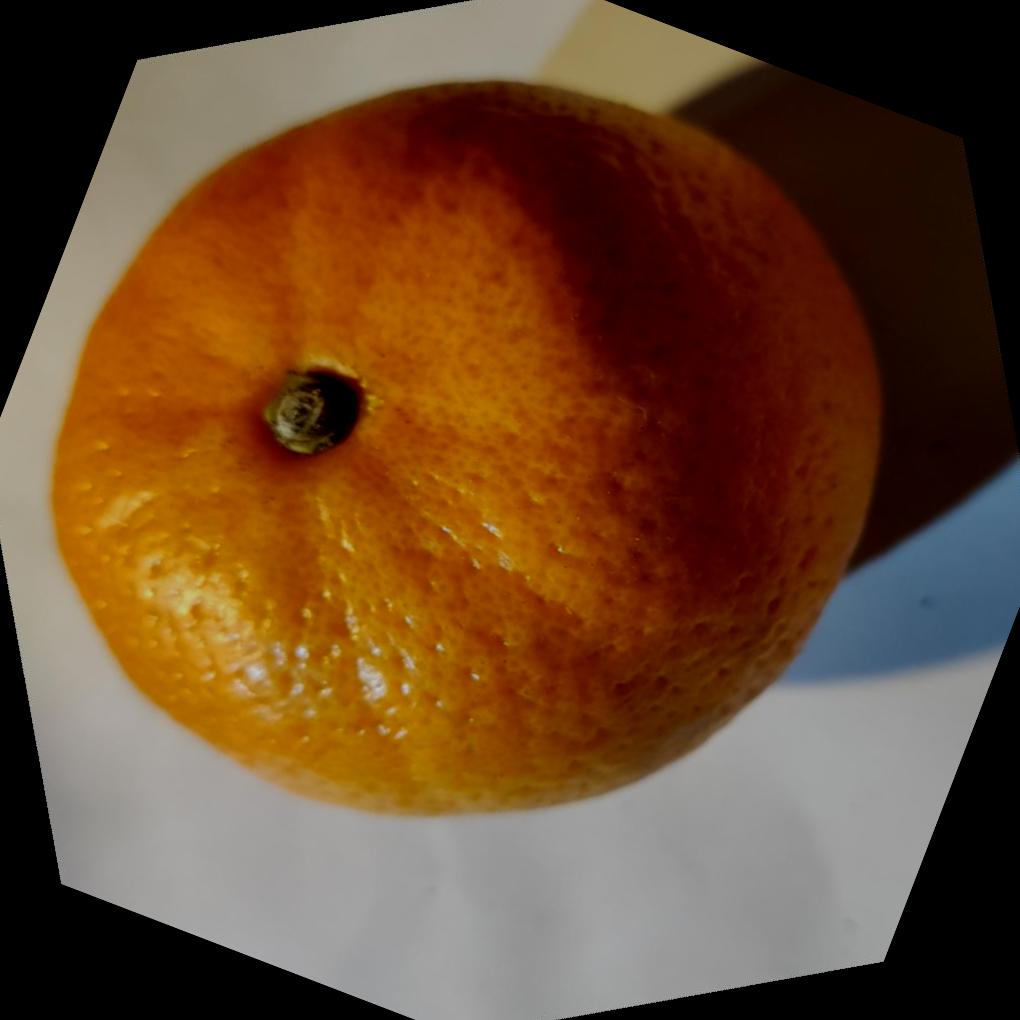FreshGuava: (46, 79, 885, 824)
